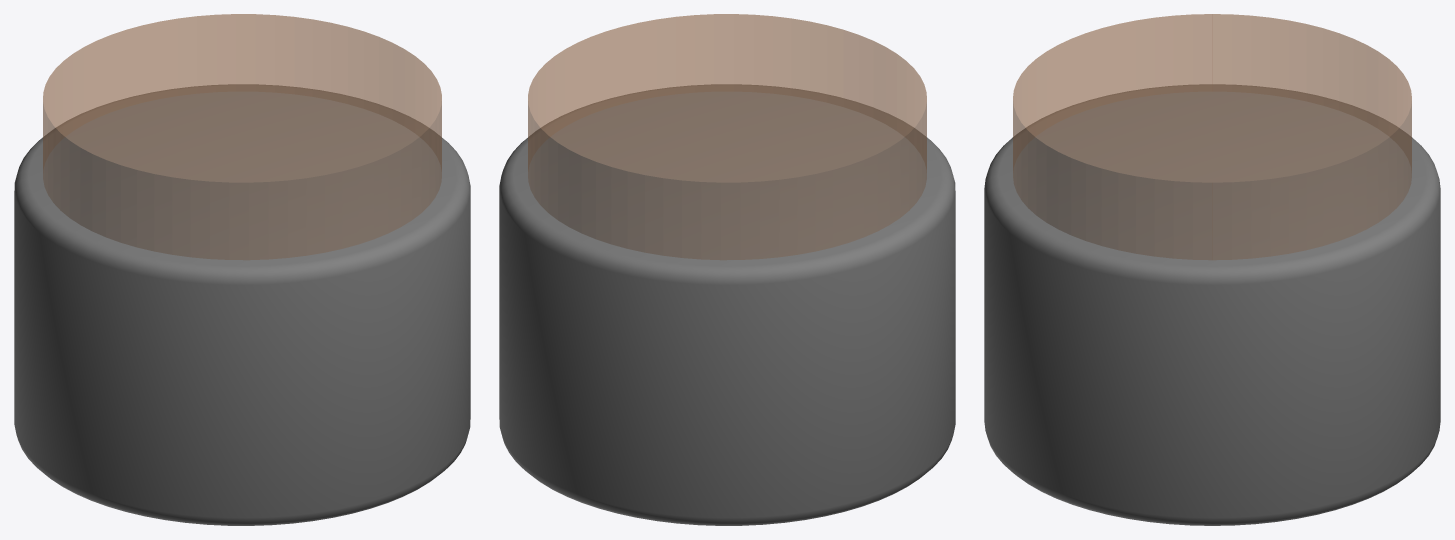
File: d8ecd87b-78cf-45a7-9d0e-43f4b26d9efb.glb
The picture shows the model from 3 angles, left to right: view 1: azimuth 30°, elevation 25°; view 2: azimuth 150°, elevation 25°; view 3: azimuth 270°, elevation 25°; orthographic projection.
Parts seen in each view (by area): view 1: Cup, Liquid; view 2: Cup, Liquid; view 3: Cup, Liquid.
Part boxes in pixels (x1,y1,x2,y2): Cup: [14, 84, 470, 525]; Liquid: [43, 14, 441, 259]; Cup: [499, 84, 955, 525]; Liquid: [528, 14, 926, 259]; Cup: [984, 84, 1440, 525]; Liquid: [1013, 14, 1411, 260].
Size of the model in its own units: 0.16 by 0.13 by 0.16.
